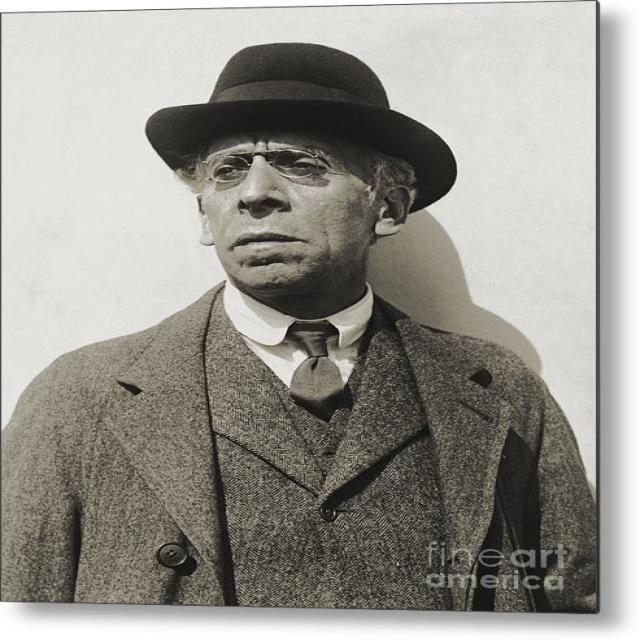cap: (136, 42, 461, 306)
